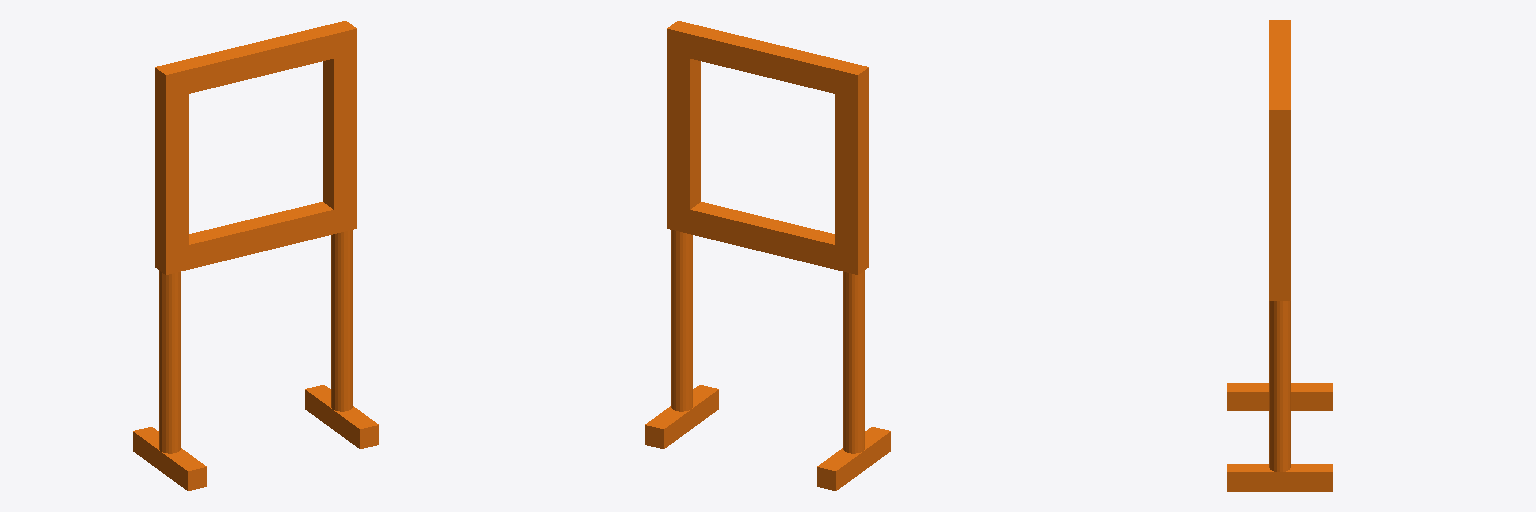
URDF robot description (gate_med):
<?xml version="1.0" ?>
<robot name="gate_med">

    <material name = "heritage-orange">
        <color rgba = "0.96078 0.50980 0.11764 1" />
    </material>
    
    <link name="gate">
        <visual>
            <origin rpy="0 0 0" xyz="0 0 0"/>
            <geometry>
                <mesh filename="gate_med.stl" scale="5 5 5"/>
            </geometry>
            <material name = "heritage-orange"/>
        </visual>
        <collision concave="yes">
            <origin rpy="0 0 0" xyz="0 0 0"/>
            <geometry>
                <mesh filename="gate_med.stl" scale="5 5 5"/>
            </geometry>
        </collision>
        <inertial>
            <origin rpy="0 0 0" xyz="0 0 0"/>
            <mass value="0"/>
            <inertia ixx="0" ixy="0" ixz="0" iyy="0" iyz="0" izz="0"/>
        </inertial>
    </link>

</robot>

--- Facts derived from the render (not from the file) ---
Views: 3 orthographic renders of the robot side by side, from view 1: azimuth 30°, elevation 25°; view 2: azimuth 150°, elevation 25°; view 3: azimuth 270°, elevation 25°.
Robot: gate_med — 1 links, 0 joints (none); root link gate; default pose: all joints at 0.
Links seen in each view (by area): view 1: gate; view 2: gate; view 3: gate.
Boxes of the visible links, bbox=[...] form: gate: bbox=[133, 21, 378, 490]; gate: bbox=[645, 21, 890, 490]; gate: bbox=[1227, 20, 1332, 491].
Size in the robot's own frame: 5 by 2.5 by 10 metres.
Meshes: 1 distinct files referenced, 1 mesh visuals loaded (1 binary STL).